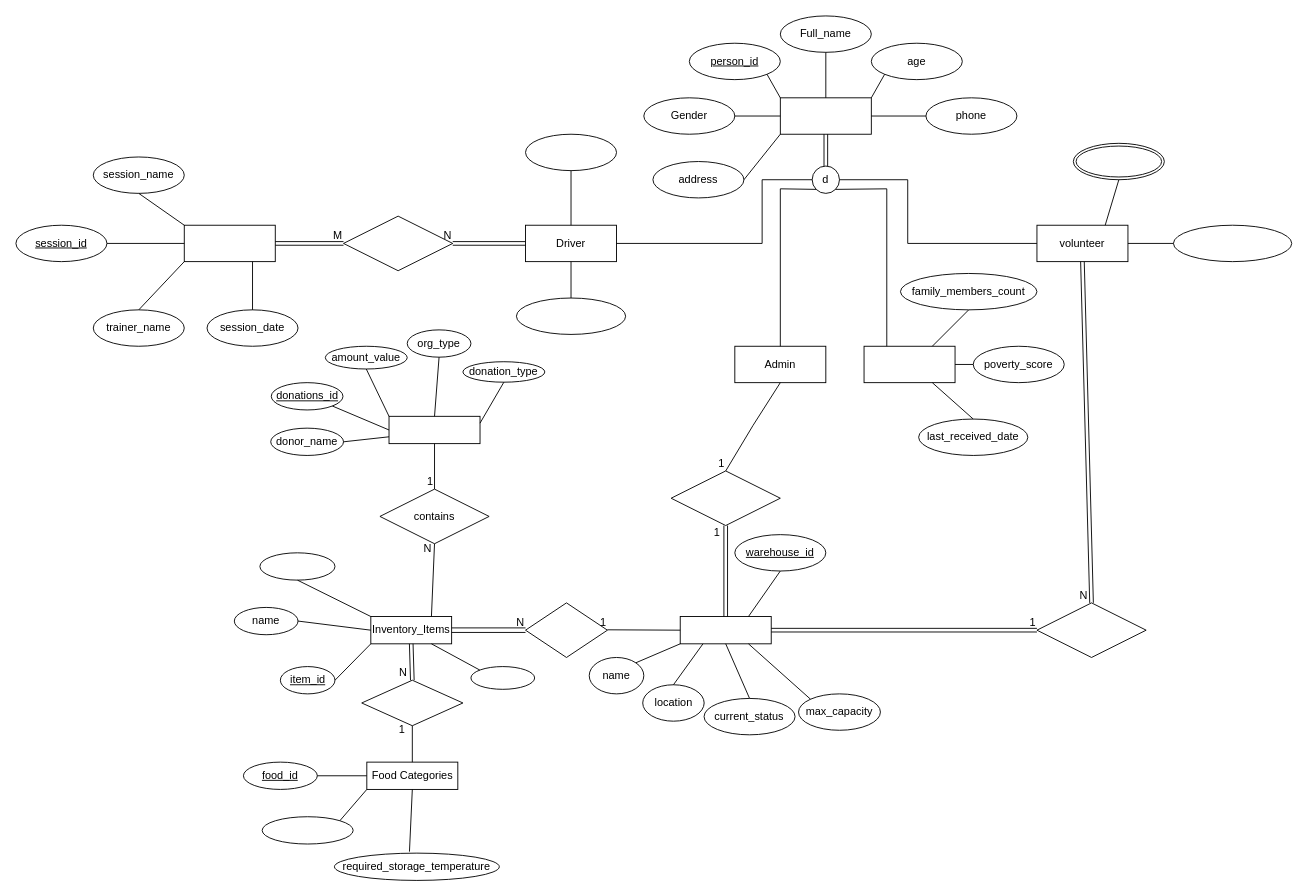
Image size: 1308x896. Some labels were removed from this diagram. Here are the shapes that lost their labels. From the top down, the centre of each, then its label:
pixel 825 115: Users_Master
pixel 571 152: took_safety
pixel 1118 161: skills
pixel 229 243: training_sessions
pixel 398 243: takes
pixel 1232 243: years_of_experience
pixel 571 315: assigned_vehi cle
pixel 909 364: Beneficiary
pixel 434 429: Donations_Log
pixel 725 498: supervises
pixel 297 566: quantity_kg
pixel 566 629: belongs_to
pixel 725 630: Warehouses
pixel 1091 629: Works_In
pixel 502 677: expiry_date
pixel 412 702: Categorized_as
pixel 307 830: food_type
